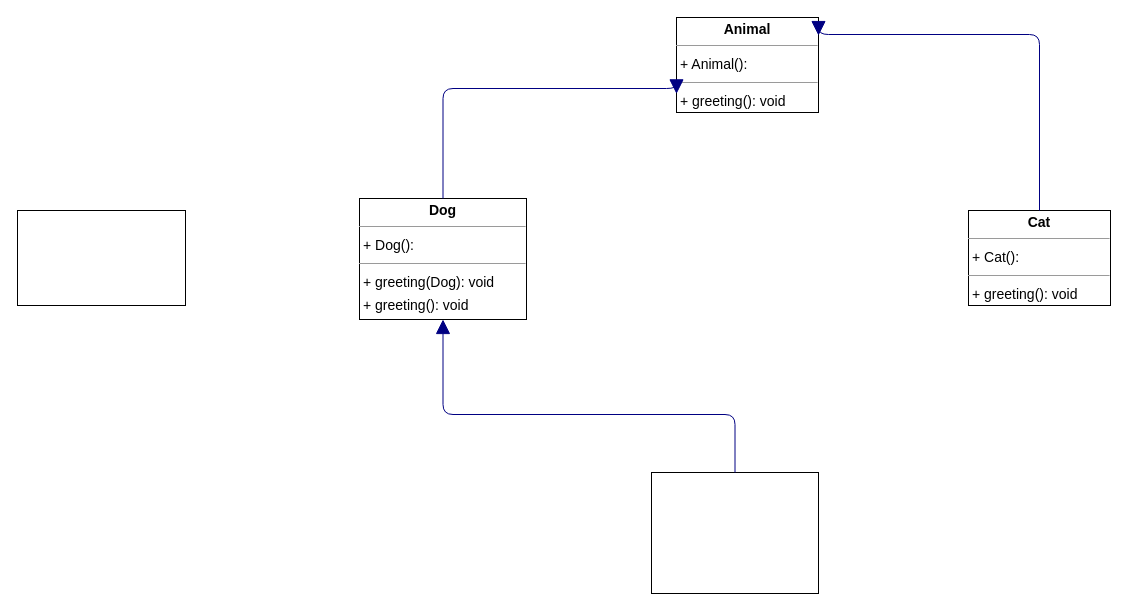
Image size: 1128x611. Some labels were removed from this diagram. The shapes that lost their labels are listed below. From the top down, each one's centre as x and y in pixels, then its label:
At point 101,258: "TestAnimal + TestAnimal(): + main(String[]): void".
At point 734,533: "BigDog + BigDog(): + greeting(): void + greeting(Dog): void".
